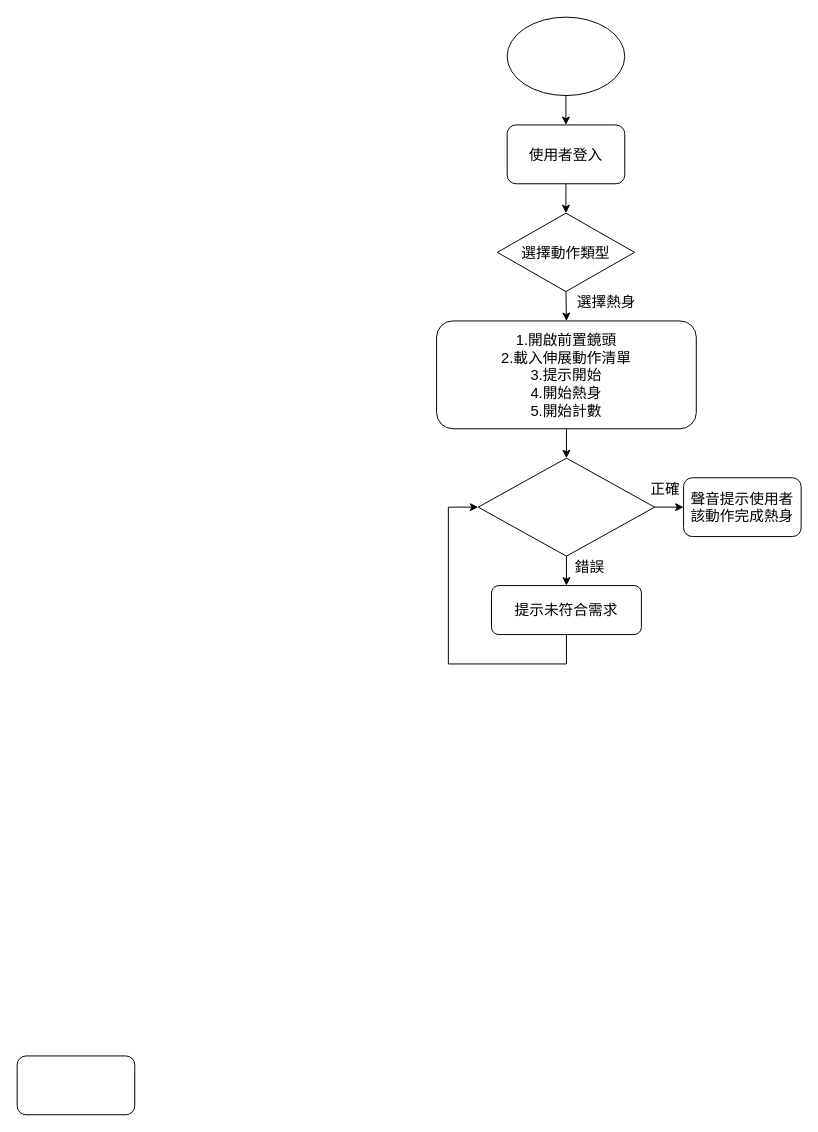
Image size: 818x1132. Some labels were removed from this diagram. The shapes that lost their labels are listed below. From the top down, each one's centre as x and y in pixels, then its label:
At (x=565, y=56): "開始".
At (x=566, y=506): "標準姿勢是否達12下".
